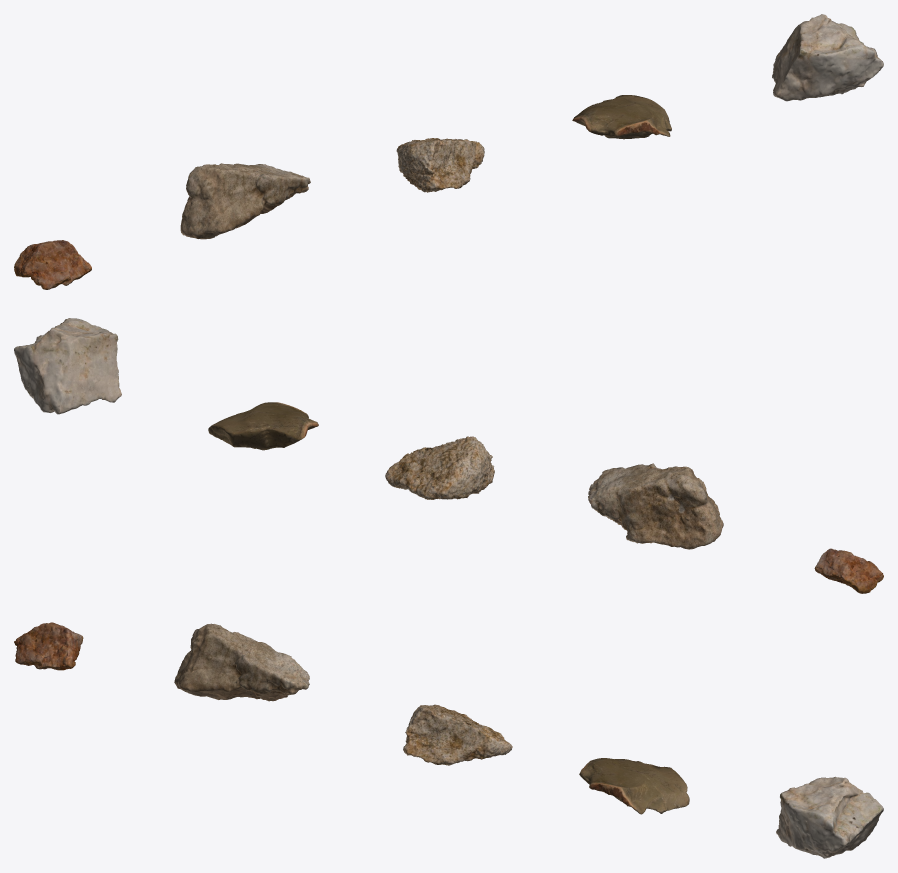
File: namaqualand_stones_01.glb
The picture shows the model from 3 angles, top to bottom: view 1: azimuth 30°, elevation 25°; view 2: azimuth 150°, elevation 25°; view 3: azimuth 330°, elevation 25°; orthographic projection.
Parts seen in each view (by area): view 1: namaqualand_stones_01_a; view 2: namaqualand_stones_01_a; view 3: namaqualand_stones_01_a.
Boxes of the visible parts, x1,y1,x2,y2 form: namaqualand_stones_01_a: (14, 14, 883, 289); namaqualand_stones_01_a: (14, 318, 883, 593); namaqualand_stones_01_a: (14, 622, 883, 858).
Bounding box in the file's own units: 1.02 × 0.084 × 0.1121.
1 material, 1 textured.
